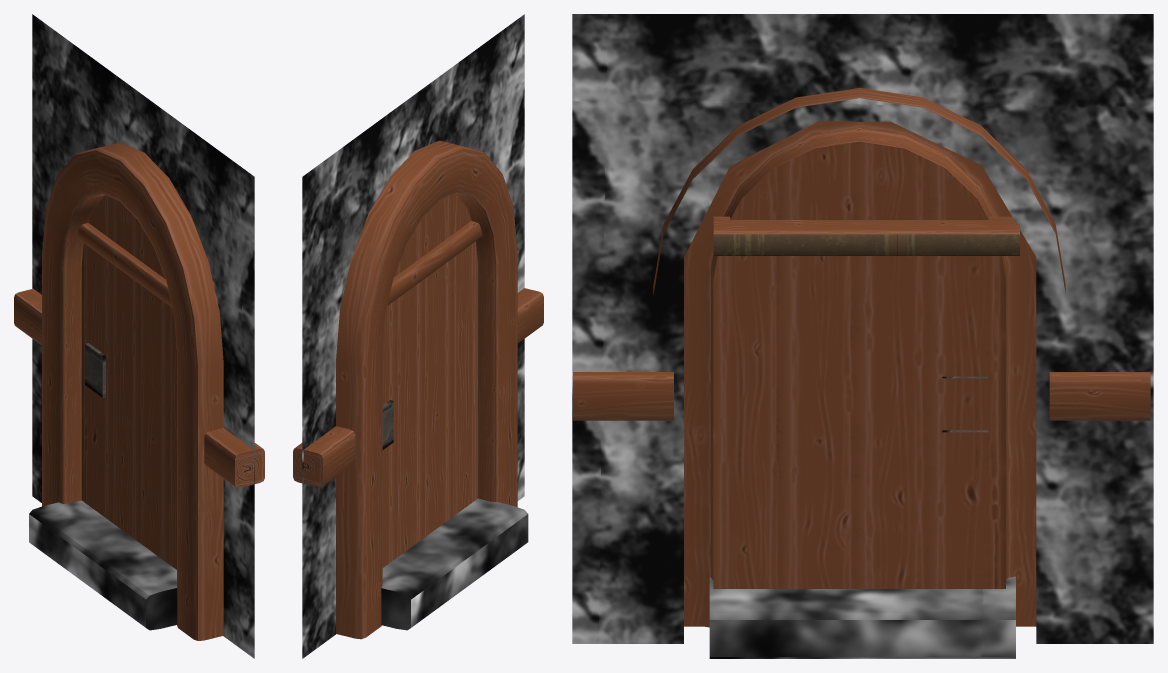
The model's file is SM_Door.fbx.
3 renders of one model, left to right at view 1: azimuth 30°, elevation 25°; view 2: azimuth 150°, elevation 25°; view 3: azimuth 270°, elevation 25°, orthographic. The views are drawn at different scales.
Parts seen in each view (by area): view 1: SM_Door_LOD0; view 2: SM_Door_LOD0; view 3: SM_Door_LOD0.
Boxes of the visible parts, bbox=[...] form: SM_Door_LOD0: bbox=[14, 14, 264, 658]; SM_Door_LOD0: bbox=[293, 14, 543, 658]; SM_Door_LOD0: bbox=[572, 14, 1153, 658].
Bounding box in the file's own units: 131 × 569 × 680.
2 materials, 2 textured.
